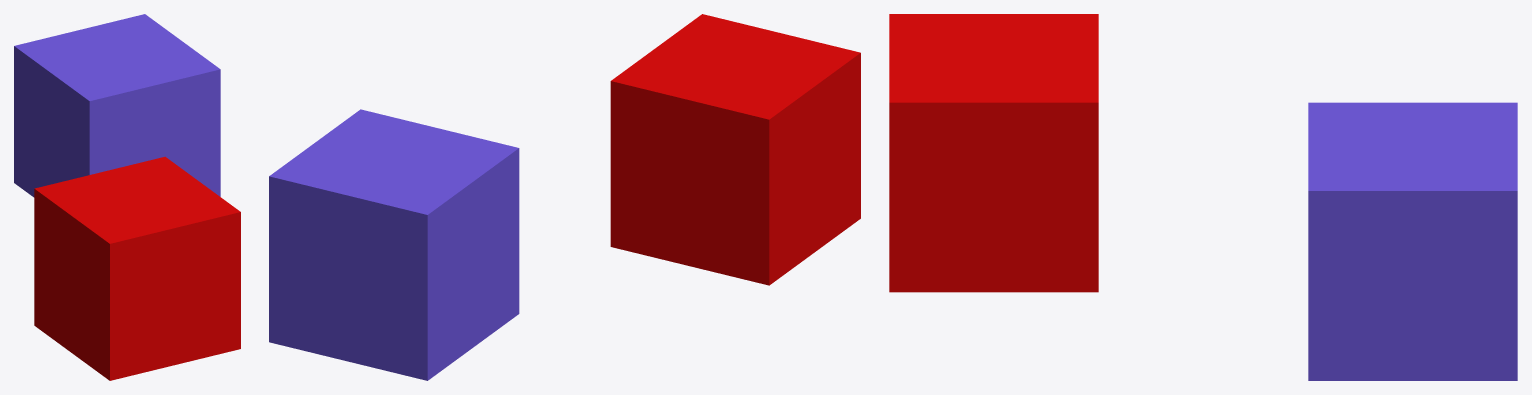
The picture shows the model from 3 angles, left to right: view 1: azimuth 30°, elevation 25°; view 2: azimuth 150°, elevation 25°; view 3: azimuth 270°, elevation 25°; orthographic projection. The views are drawn at different scales.
Visible parts, largest first — view 1: Mesh, blue-draw; view 2: Mesh, blue-draw; view 3: Mesh, blue-draw.
Part boxes in pixels (<box>): Mesh: <box>34,156,240,380</box>; blue-draw: <box>14,14,220,197</box>; Mesh: <box>610,14,860,285</box>; blue-draw: <box>269,109,519,380</box>; Mesh: <box>889,14,1098,292</box>; blue-draw: <box>1308,102,1517,380</box>.
Bounding box in the file's own units: 2 × 1 × 3.
